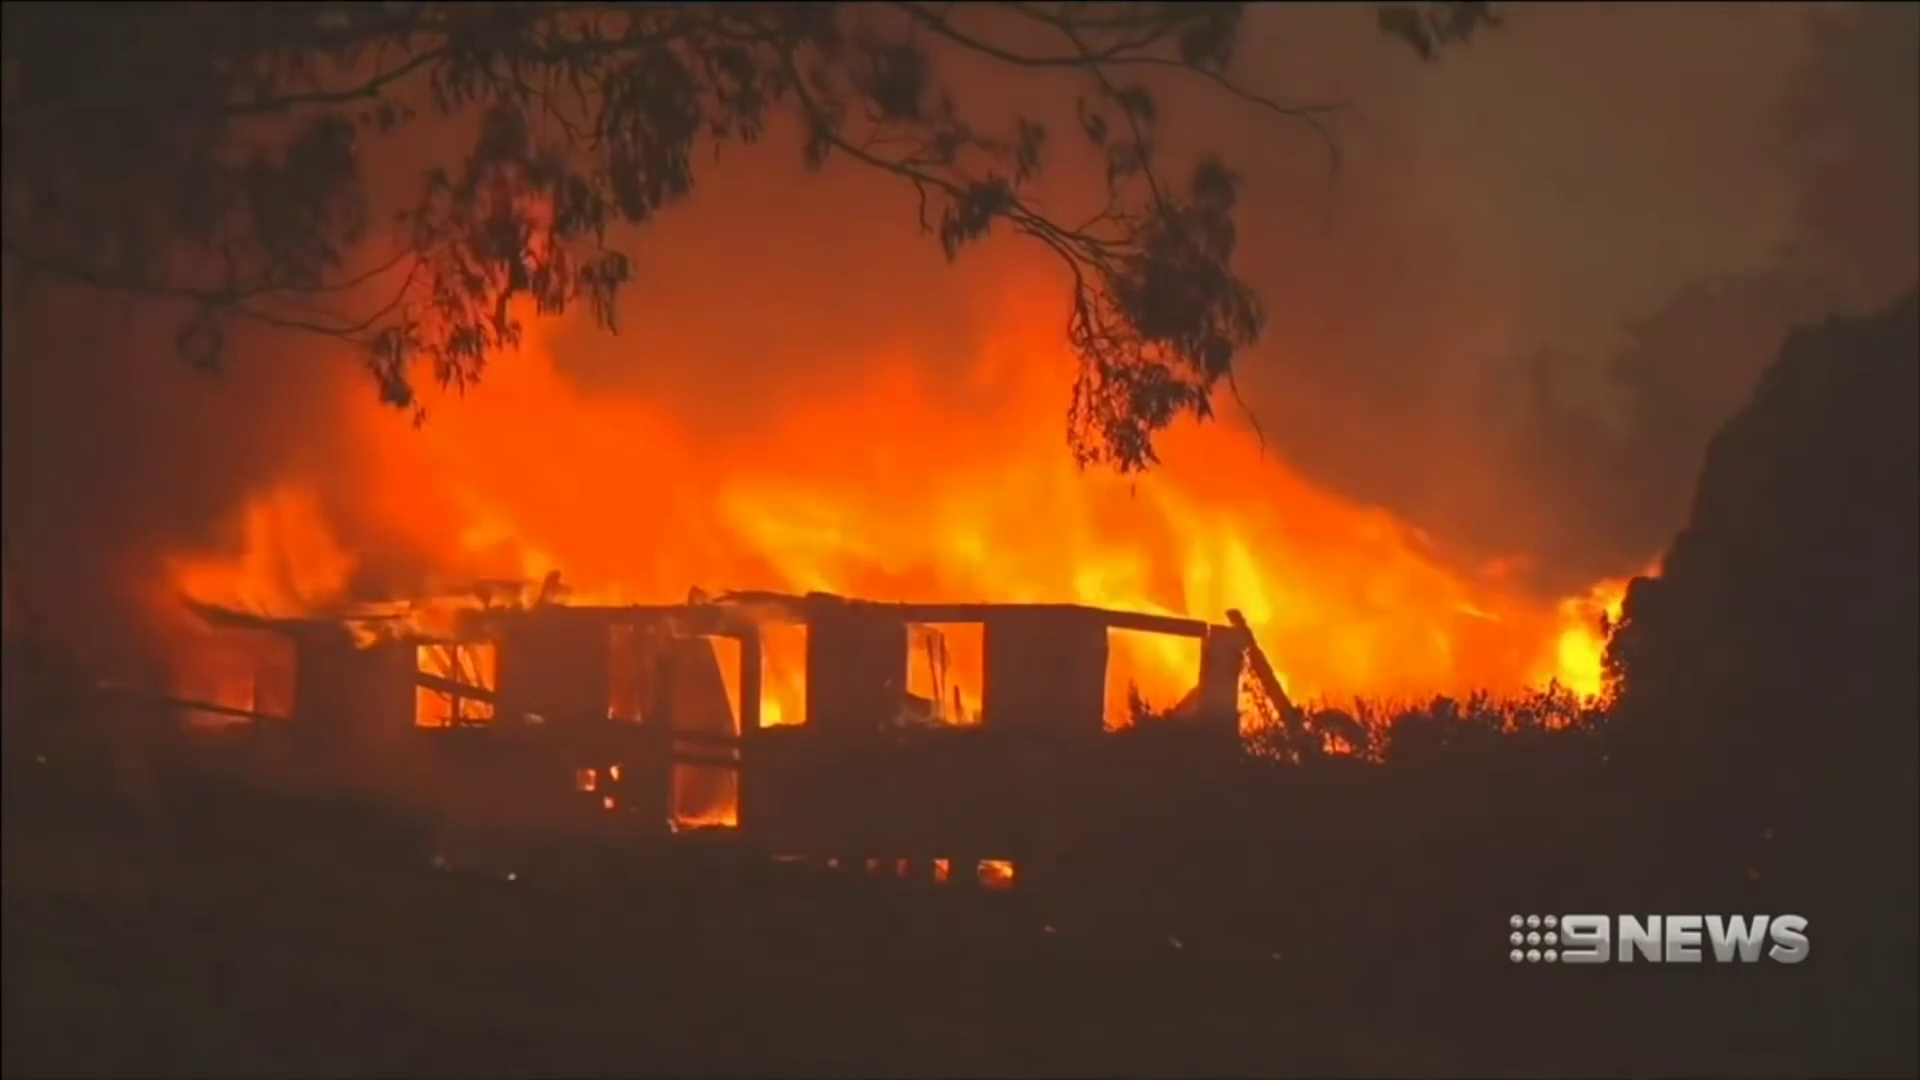fire: (712, 454, 1273, 624), (183, 496, 336, 615), (447, 492, 553, 607), (1545, 583, 1609, 707)
